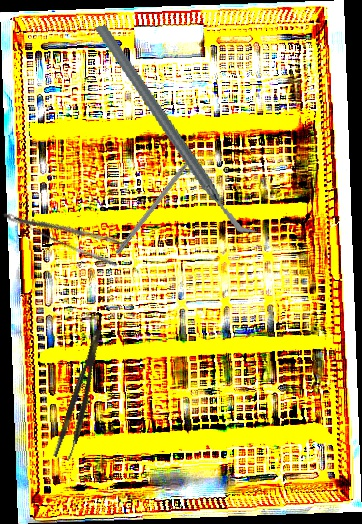Chopper: (92, 3, 260, 256), (114, 144, 209, 260)
Dressing Forceps: (0, 191, 128, 270)
Tissue Forceps: (52, 328, 113, 462)
